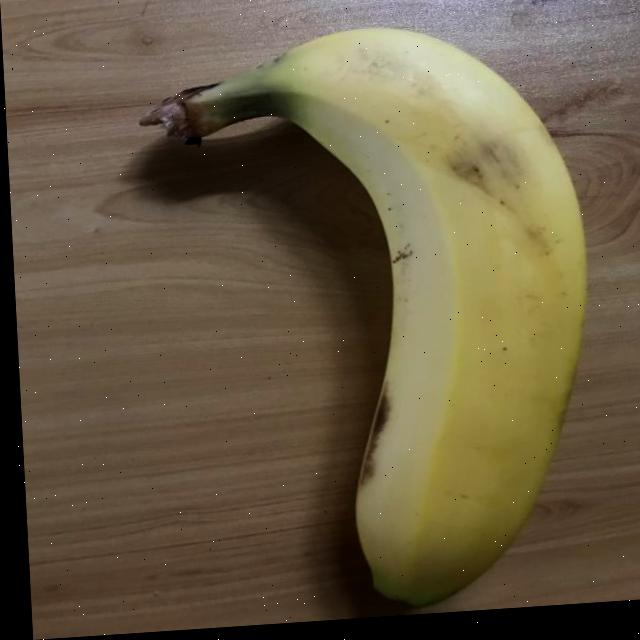banana: (138, 6, 630, 626)
